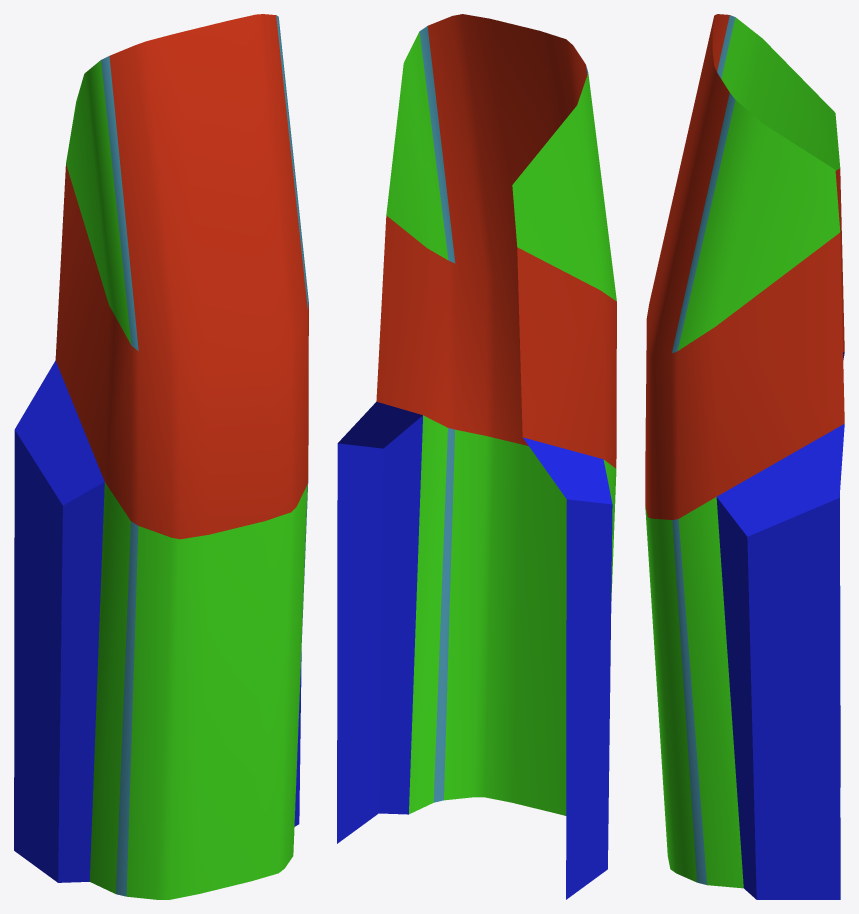
File: Progeny Art Center.FBX
The picture shows the model from 3 angles, left to right: view 1: azimuth 30°, elevation 25°; view 2: azimuth 150°, elevation 25°; view 3: azimuth 270°, elevation 25°; orthographic projection. The views are drawn at different scales.
Parts seen in each view (by area): view 1: Box002; view 2: Box002; view 3: Box002.
Part boxes in pixels (left/top/right/bottom): Box002: left=14, top=14, right=308, bottom=899; Box002: left=337, top=14, right=616, bottom=899; Box002: left=645, top=14, right=844, bottom=899.
Bounding box in the file's own units: 22.37 × 74.72 × 16.8.
